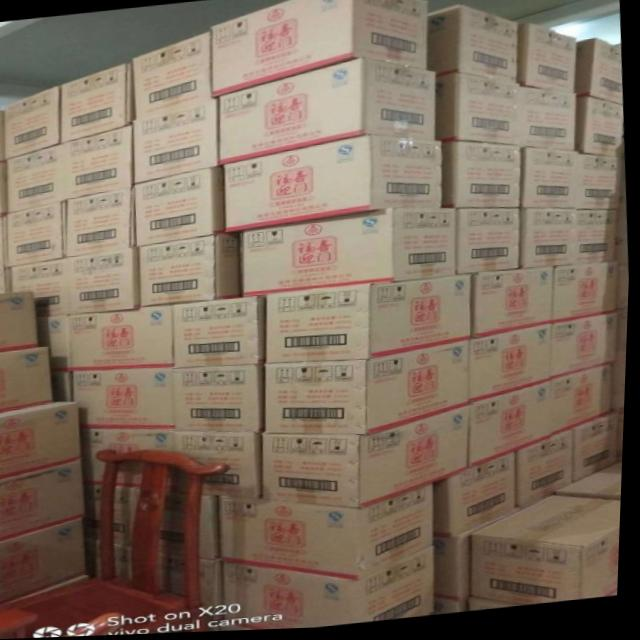box: (219, 60, 436, 166), (210, 0, 428, 99), (224, 137, 443, 234), (265, 409, 473, 511), (223, 485, 438, 582), (267, 343, 472, 437), (240, 210, 457, 298), (268, 277, 473, 365), (227, 549, 439, 632), (474, 499, 625, 608), (434, 511, 524, 604), (0, 518, 92, 605), (133, 99, 224, 185), (139, 234, 243, 308), (471, 384, 555, 472), (0, 460, 89, 542), (135, 168, 227, 247), (427, 7, 519, 86), (436, 455, 520, 540), (133, 33, 214, 121), (71, 305, 176, 371), (174, 298, 268, 369), (0, 402, 84, 480), (472, 327, 554, 406), (178, 429, 269, 500), (436, 74, 522, 149), (75, 368, 178, 430), (175, 365, 268, 432), (61, 64, 136, 143), (473, 270, 555, 341), (81, 428, 179, 485), (442, 144, 522, 212), (66, 125, 134, 200), (68, 187, 139, 258), (68, 247, 142, 314), (518, 434, 576, 515), (553, 317, 620, 384), (4, 199, 68, 267), (6, 142, 67, 213), (457, 211, 522, 277), (554, 368, 613, 440), (517, 27, 577, 97), (6, 86, 62, 159), (555, 265, 620, 327), (520, 151, 580, 212), (521, 90, 578, 154), (0, 347, 56, 412), (570, 417, 622, 487), (521, 212, 579, 272), (12, 258, 69, 317), (574, 42, 622, 108), (576, 100, 625, 163), (2, 575, 93, 607), (558, 466, 626, 505), (578, 158, 625, 214), (0, 291, 41, 352), (578, 214, 620, 268), (39, 314, 75, 372), (162, 492, 190, 556), (203, 559, 228, 623), (117, 487, 144, 546), (203, 495, 224, 561), (84, 484, 107, 540), (162, 552, 189, 597), (473, 599, 530, 614), (120, 462, 149, 489), (117, 543, 137, 581), (88, 537, 105, 579), (53, 371, 76, 402), (432, 601, 473, 618), (171, 469, 191, 494), (0, 161, 9, 216), (0, 215, 7, 271), (208, 617, 229, 633), (224, 624, 261, 633), (0, 269, 13, 293), (0, 110, 6, 161)
